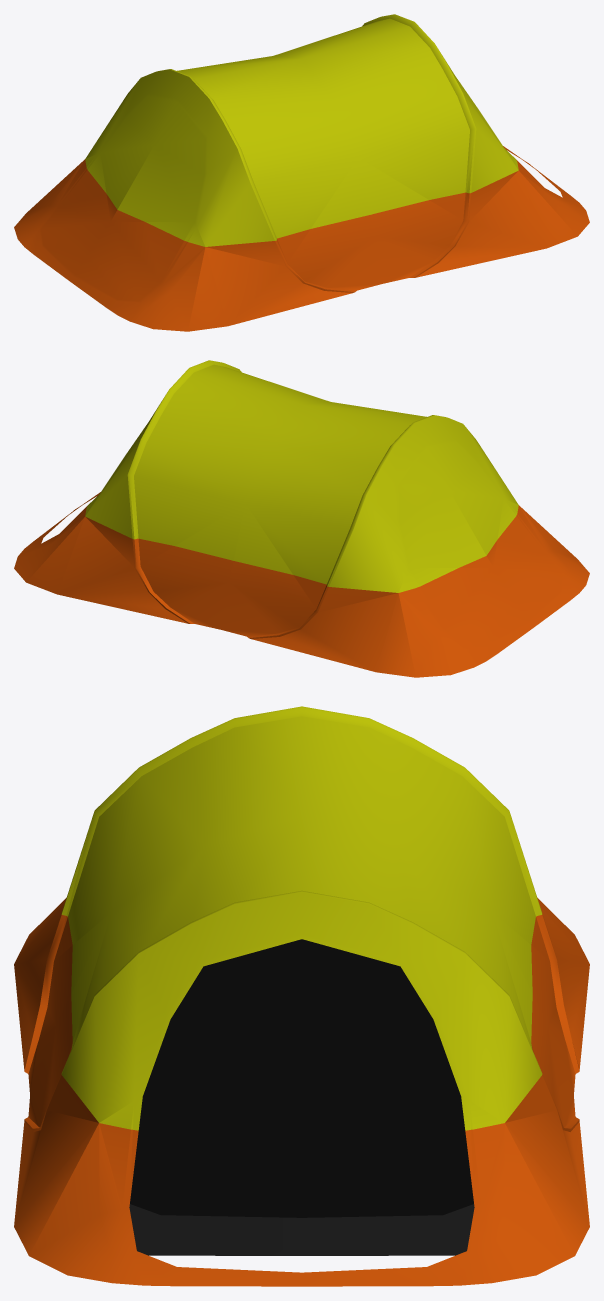
The model's file is Tent_Long2.fbx.
3 views of the same model, one above another, from view 1: azimuth 30°, elevation 25°; view 2: azimuth 150°, elevation 25°; view 3: azimuth 270°, elevation 25° (orthographic). The views are drawn at different scales.
Visible parts, largest first — view 1: SM_Tent_Long_LOD0; view 2: SM_Tent_Long_LOD0; view 3: SM_Tent_Long_LOD0.
Part boxes in pixels (x1,y1,x2,y2): SM_Tent_Long_LOD0: (14, 14, 589, 331); SM_Tent_Long_LOD0: (14, 360, 589, 677); SM_Tent_Long_LOD0: (14, 706, 589, 1286).
Bounding box in the file's own units: 129 × 46.77 × 82.3.
